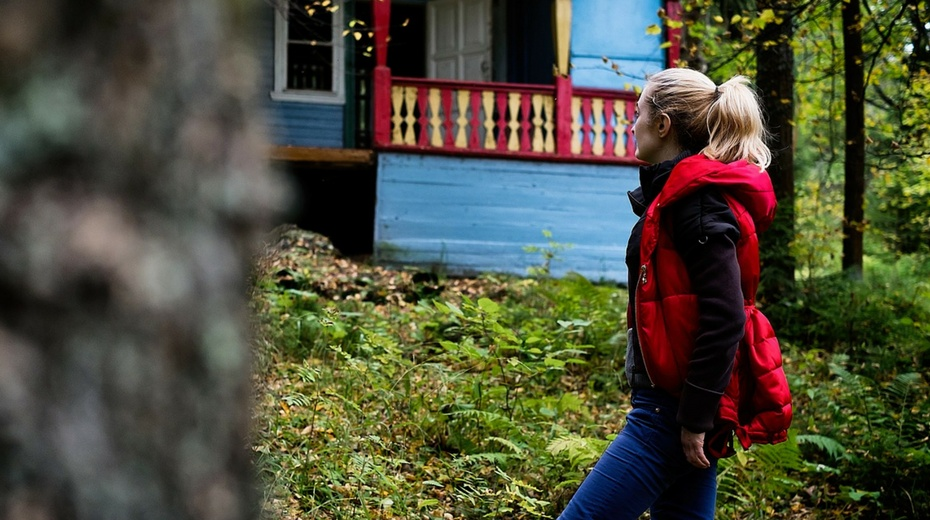person without safety: (582, 73, 769, 520)
